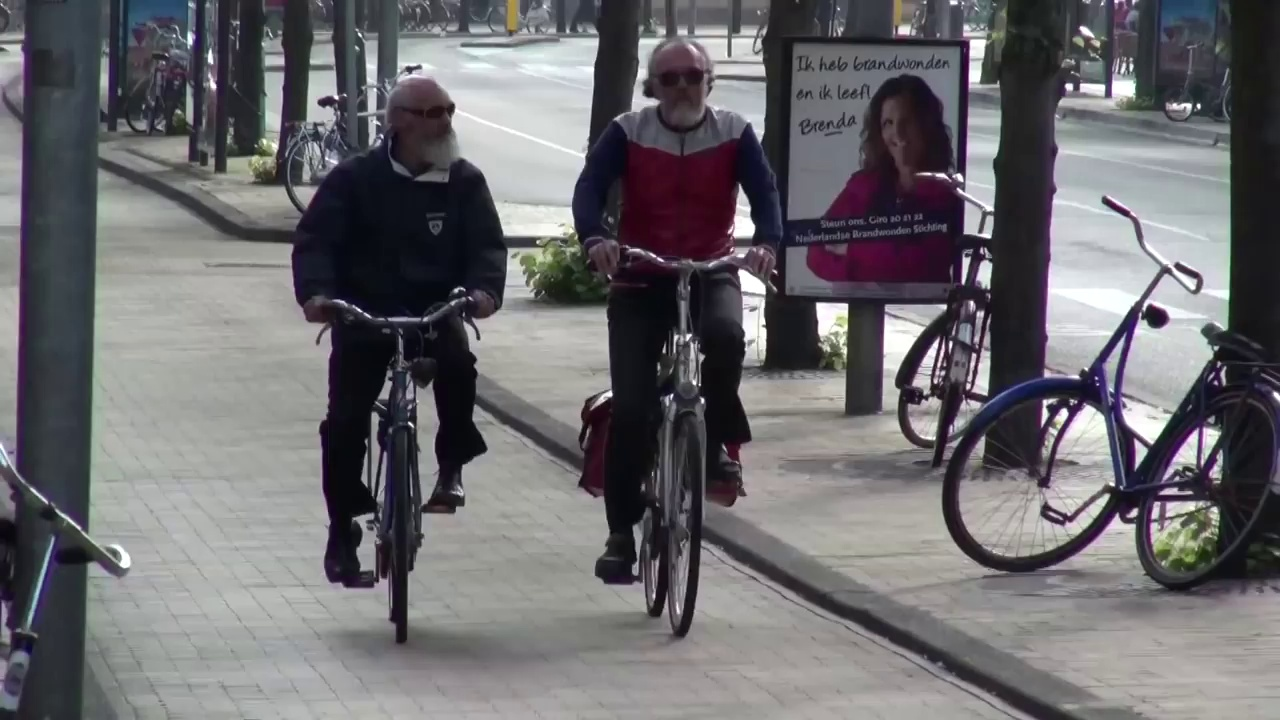cyclist_front: (289, 72, 516, 648), (569, 37, 760, 644)
